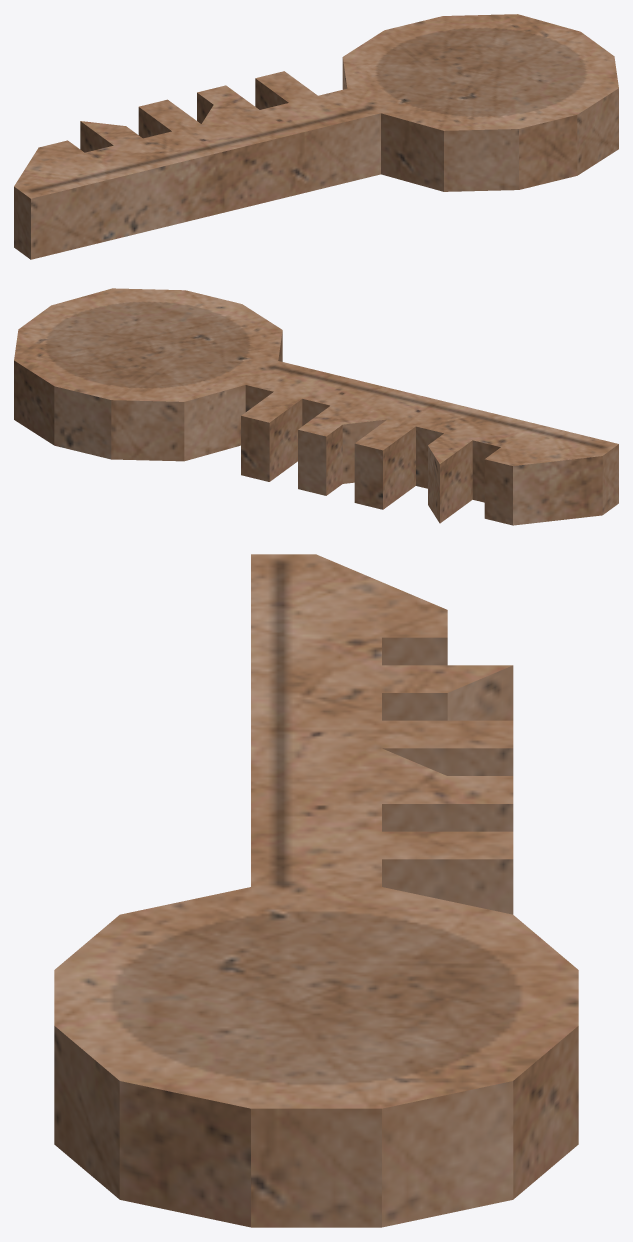
Rendered from Basement Key.fbx.
The picture shows the model from 3 angles, top to bottom: view 1: azimuth 30°, elevation 25°; view 2: azimuth 150°, elevation 25°; view 3: azimuth 270°, elevation 25°; orthographic projection. The views are drawn at different scales.
Visible parts, largest first — view 1: Basement_Key; view 2: Basement_Key; view 3: Basement_Key.
Boxes of the visible parts, x1,y1,x2,y2 form: Basement_Key: (14,14,618,259); Basement_Key: (14,288,618,525); Basement_Key: (54,554,578,1227).
Bounding box in the file's own units: 100 × 10 × 40.
Materials: 1 (1 with a texture image).
